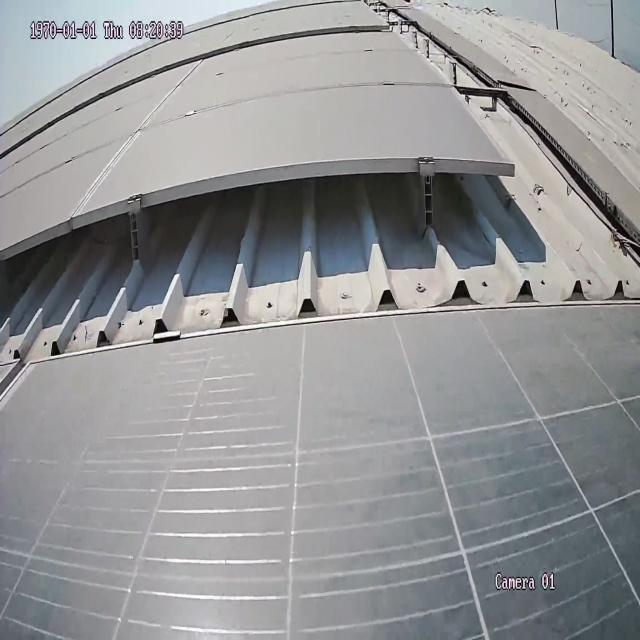interior panel: (61, 57, 215, 216), (0, 362, 42, 417)
outher panel: (0, 0, 640, 364)
